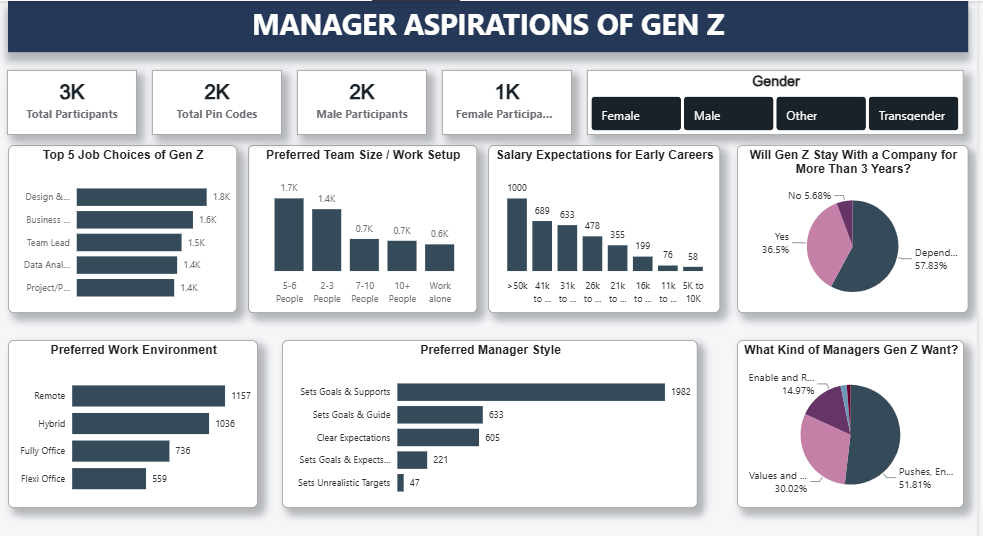

What the dashboard file says about the page in this screenshot:
{"tool":"powerbi","page":{"name":"MANAGER ASPIRATIONS","canvas":[1280,720],"ordinal":0},"visuals":[{"type":"textbox","box":[11.4,0,1257.1,67.1],"z":0},{"type":"advancedSlicerVisual","fields":{"Values":["CareerData.Gender"]},"box":[770,90,492.9,85],"z":1000},{"type":"clusteredBarChart","title":"Preferred Work Environment","fields":{"Category":["CareerData.Working Enviornment"],"Y":["CareerData.Total Participants"]},"box":[11.4,444.3,327.1,220],"z":2000},{"type":"clusteredBarChart","title":"Preferred Manager Style","fields":{"Category":["CareerData.Likely Work with Manager"],"Y":["CareerData.Total Participants"]},"box":[370,444.3,544.3,220],"z":3000},{"type":"pieChart","title":"Will Gen Z Stay With a Company for More Than 3 Years?","fields":{"Category":["CareerData.3 years or more in an Org"],"Y":["CareerData.Total Participants"]},"box":[965.7,188.6,302.9,220],"z":4000},{"type":"clusteredColumnChart","title":"Preferred Team Size / Work Setup","fields":{"Y":["CareerData.Total Participants"],"Category":["CareerData.Work Setup"]},"box":[325.7,188.6,300,220],"z":5000},{"type":"clusteredColumnChart","title":"Salary Expectations for Early Careers","fields":{"Y":["CareerData.Total Participants"],"Category":["CareerData.Salary for Early Careers"]},"box":[640,188.6,304,220],"z":6000},{"type":"clusteredBarChart","title":"Top 5 Job Choices of Gen Z","fields":{"Y":["CareerData.Total Participants"],"Category":["CareerData.Aspirational Job"]},"box":[11.4,188.6,300,220],"z":7000},{"type":"cardVisual","fields":{"Data":["CareerData.Total Participants"]},"box":[10,90,170,85],"z":8000},{"type":"cardVisual","fields":{"Data":["CareerData.Total Pin Codes"]},"box":[200,90,170,85],"z":9000},{"type":"cardVisual","fields":{"Data":["CareerData.Male Participants"]},"box":[390,90,170,85],"z":10000},{"type":"cardVisual","fields":{"Data":["CareerData.Female Participants"]},"box":[580,90,170,85],"z":11000},{"type":"pieChart","title":"What Kind of Managers Gen Z Want?","fields":{"Y":["CareerData.Total Participants"],"Category":["CareerData.Learning Aspirations"]},"box":[965.7,444.3,297.1,220],"z":12000}]}

Visuals, with their boxes on the page's 1280x720 design canvas (x1, y1, x2, y2). These are canvas units, not pixel positions in the 983x536 screenshot, which may show the page scaled, cropped or inside an application window:
textbox: {"x1": 11, "y1": 0, "x2": 1268, "y2": 67}
advancedSlicerVisual - CareerData.Gender: {"x1": 770, "y1": 90, "x2": 1263, "y2": 175}
"Preferred Work Environment" clusteredBarChart: {"x1": 11, "y1": 444, "x2": 338, "y2": 664}
"Preferred Manager Style" clusteredBarChart: {"x1": 370, "y1": 444, "x2": 914, "y2": 664}
"Will Gen Z Stay With a Company for More Than 3 Years?" pieChart: {"x1": 966, "y1": 189, "x2": 1269, "y2": 409}
"Preferred Team Size / Work Setup" clusteredColumnChart: {"x1": 326, "y1": 189, "x2": 626, "y2": 409}
"Salary Expectations for Early Careers" clusteredColumnChart: {"x1": 640, "y1": 189, "x2": 944, "y2": 409}
"Top 5 Job Choices of Gen Z" clusteredBarChart: {"x1": 11, "y1": 189, "x2": 311, "y2": 409}
cardVisual - CareerData.Total Participants: {"x1": 10, "y1": 90, "x2": 180, "y2": 175}
cardVisual - CareerData.Total Pin Codes: {"x1": 200, "y1": 90, "x2": 370, "y2": 175}
cardVisual - CareerData.Male Participants: {"x1": 390, "y1": 90, "x2": 560, "y2": 175}
cardVisual - CareerData.Female Participants: {"x1": 580, "y1": 90, "x2": 750, "y2": 175}
"What Kind of Managers Gen Z Want?" pieChart: {"x1": 966, "y1": 444, "x2": 1263, "y2": 664}
